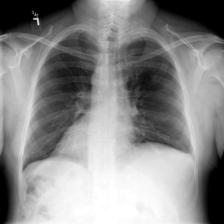normal: (15, 23, 201, 182)
